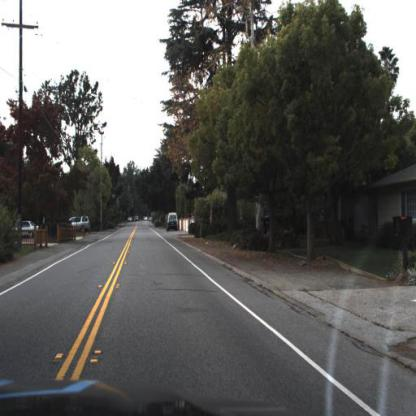car: (62, 207, 98, 237), (64, 211, 92, 236), (19, 216, 42, 239), (166, 215, 180, 235)
